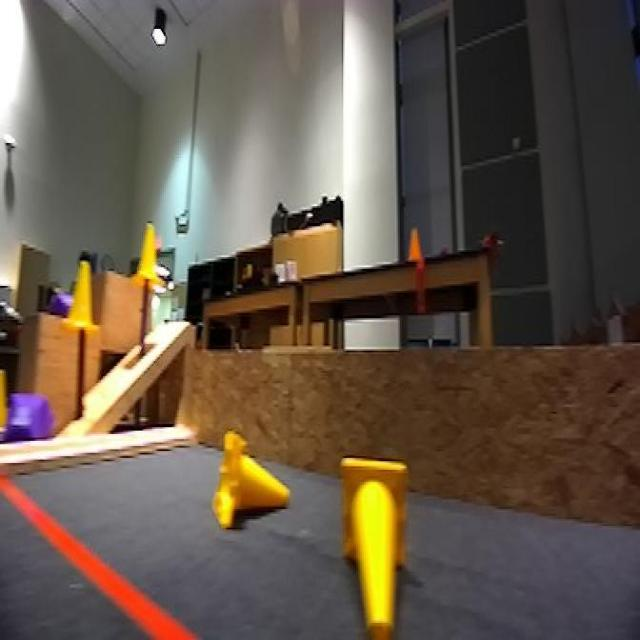frc_cone: (341, 451, 409, 640), (210, 431, 292, 536), (66, 256, 98, 340), (135, 225, 169, 303)
frc_cube: (1, 392, 49, 449), (48, 284, 68, 317)
